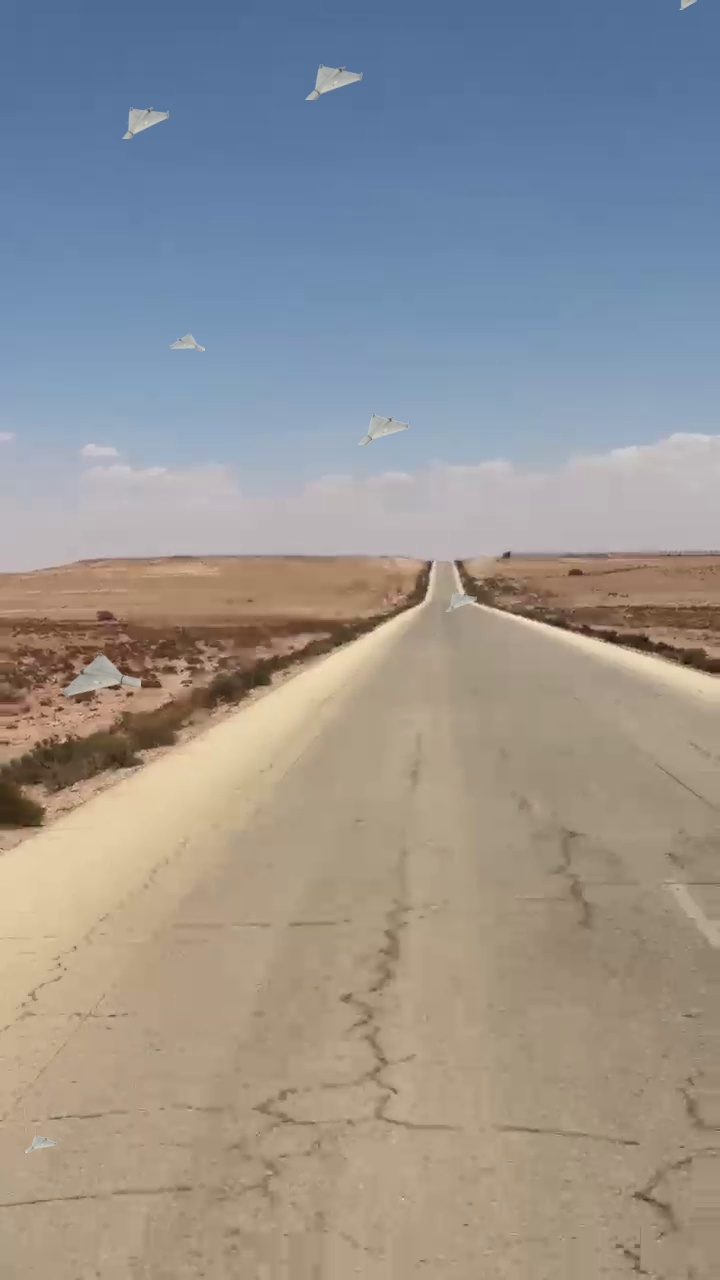shahed: (59, 654, 140, 702), (300, 62, 364, 100), (113, 104, 171, 138), (354, 412, 410, 444), (443, 590, 479, 612), (169, 334, 205, 354), (25, 1134, 56, 1152), (676, 0, 698, 8)
